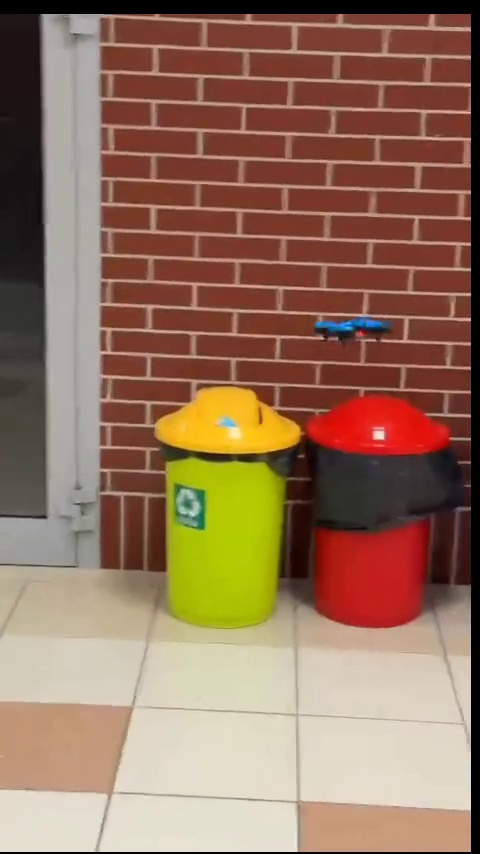drone: (314, 314, 392, 344)
